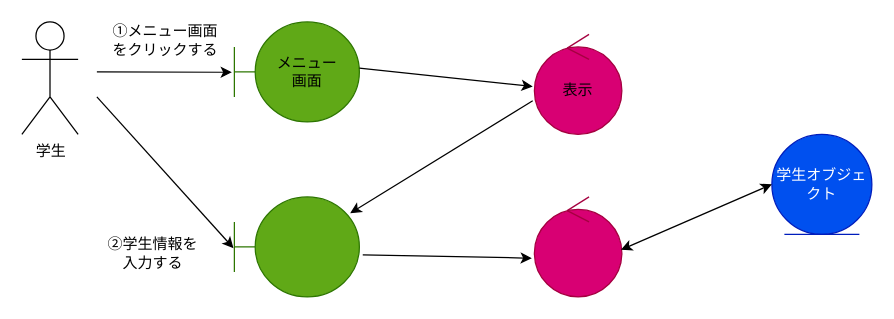
This 894x319 diagram has some shape labels left out. The shapes that lost their labels are listed below. From the top down, each one's centre as x and y in pixels, then its label:
At point 296,246: "学生登録 画面".
At point 577,246: "学生情報 登録".
